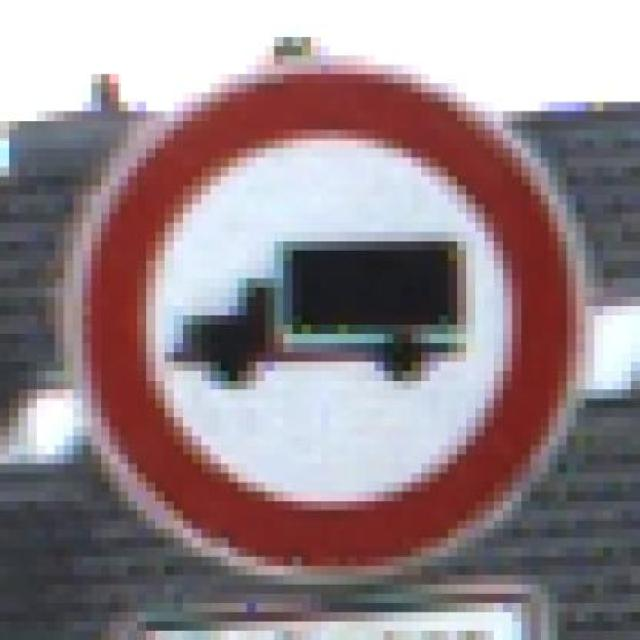Truck traffic is prohibited: (36, 65, 604, 593)
